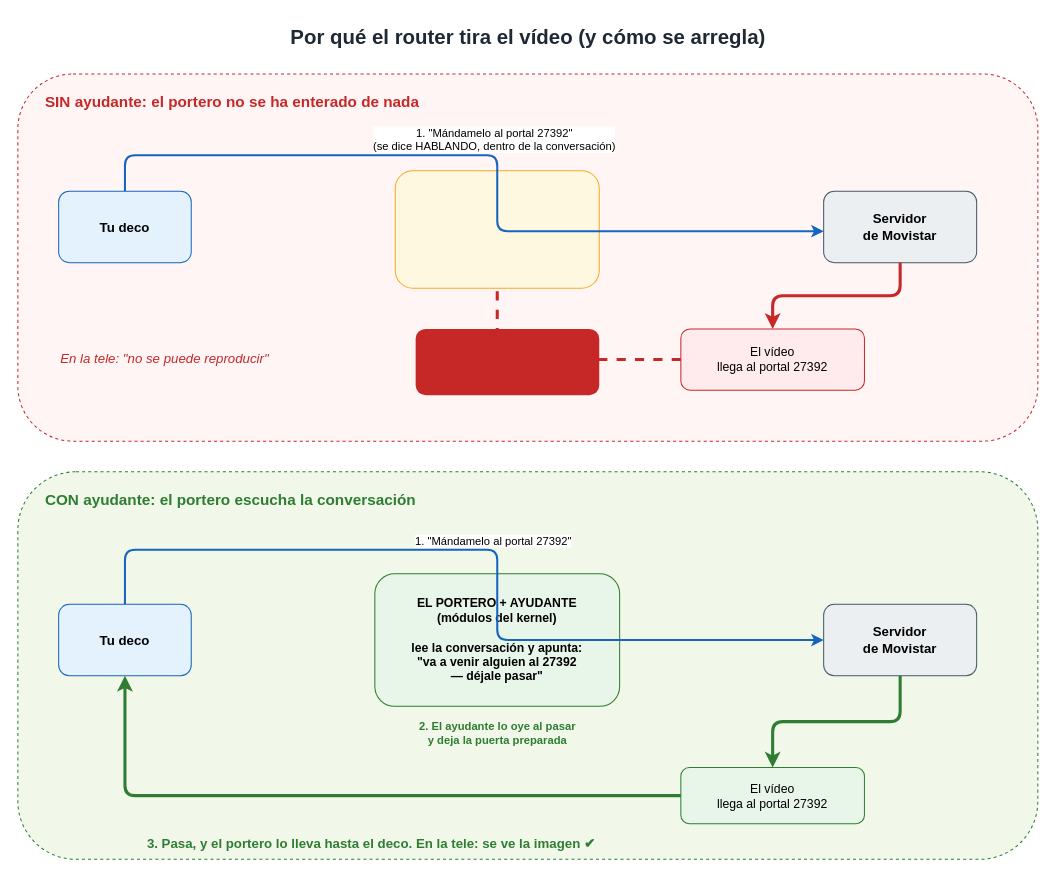
The diagram is 1056 pixels wide and 877 high, and some of its shapes have lost their labels. Here are the shapes that lost their labels. From the top down, the box of each, then its label:
(394, 170, 599, 288): EL PORTERO (tu router) "solo dejo entrar a quien responde a algo que salió"
(415, 328, 599, 395): ✖ DESCARTADO "yo no he visto salir nada hacia ahí"
